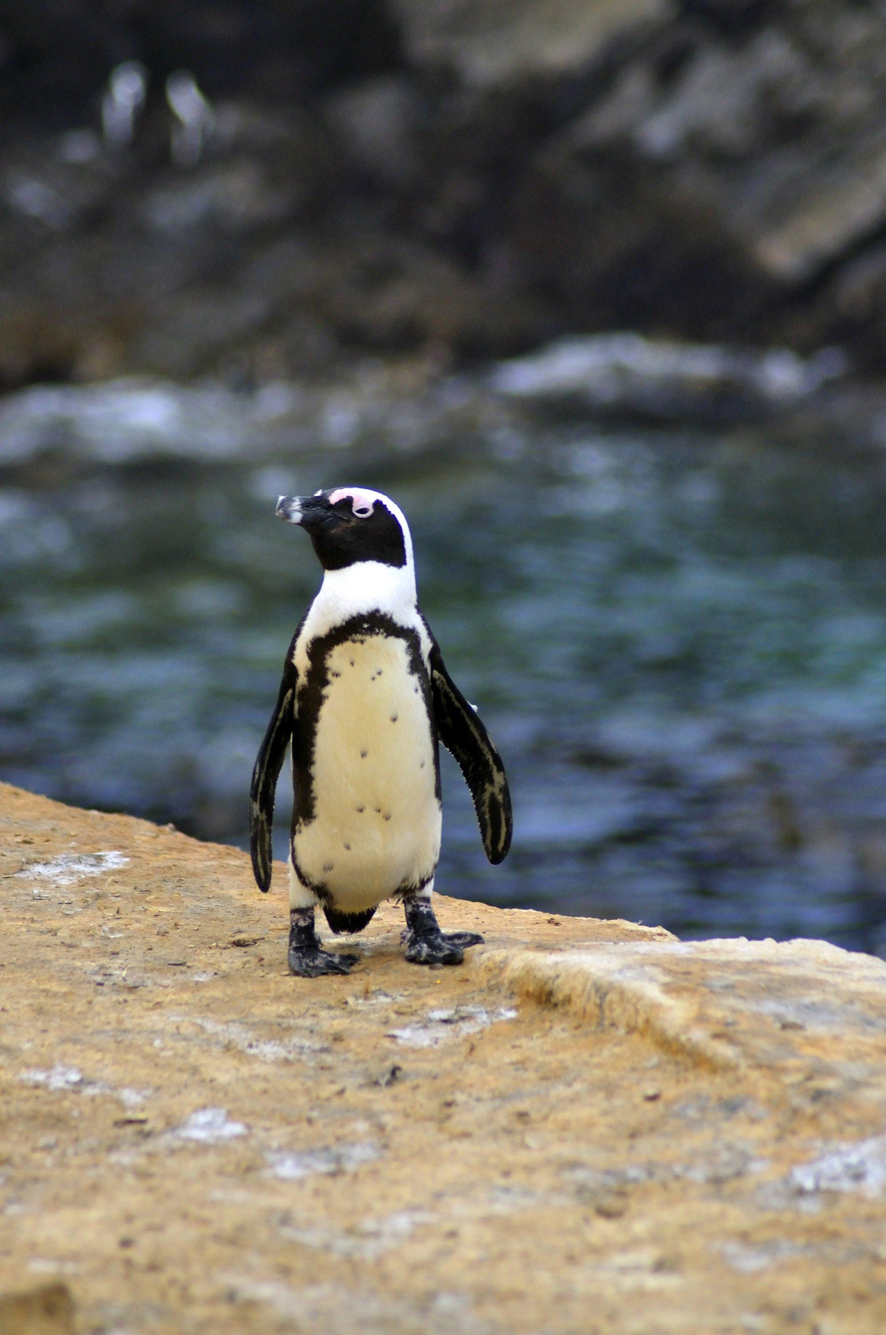Penguin: (250, 487, 513, 977)
